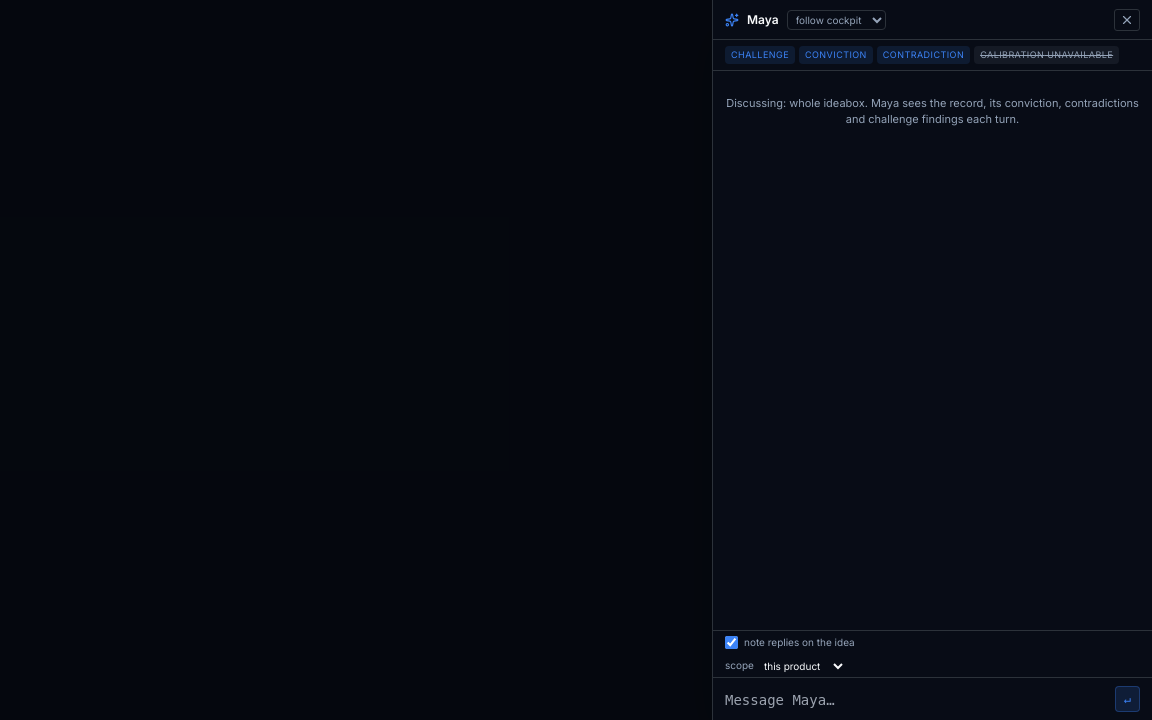
Test: conversation flow › findings accordion renders the latest turn's findings blocks (record/discussion excluded)
Type "hi" into the text box with placeholder "Message Maya…". click: (916, 701)
box: [725,689,1107,712]
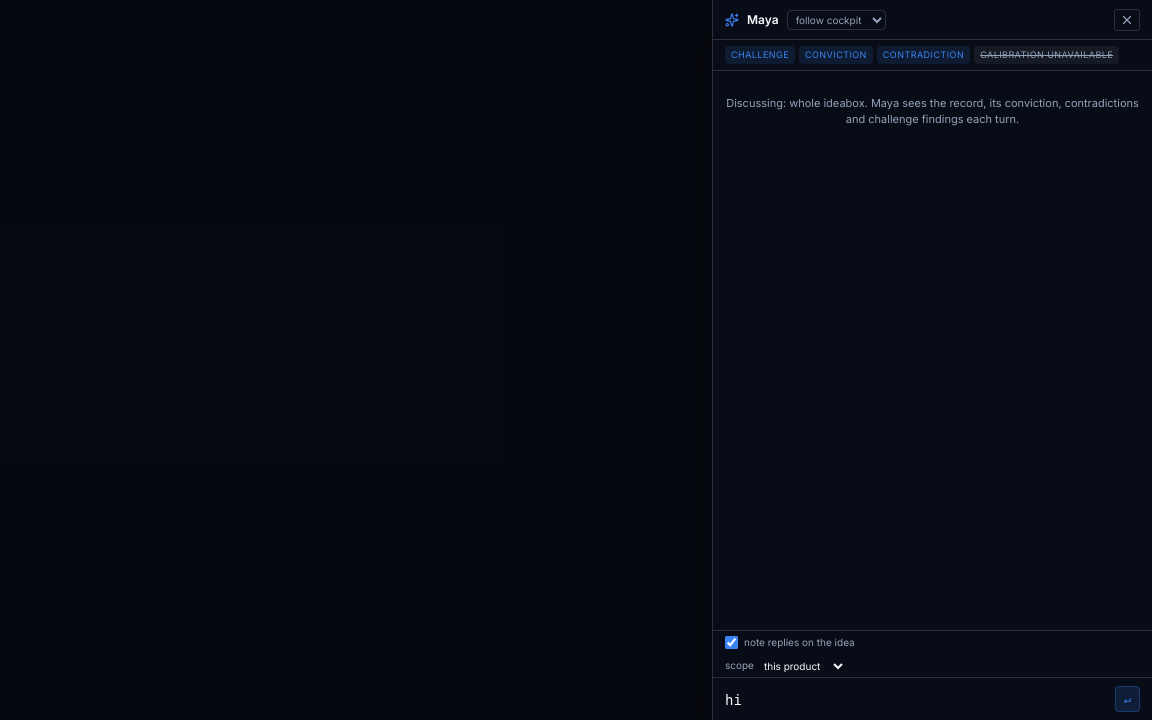
Press Enter in the text box, box [725,689,1107,712]
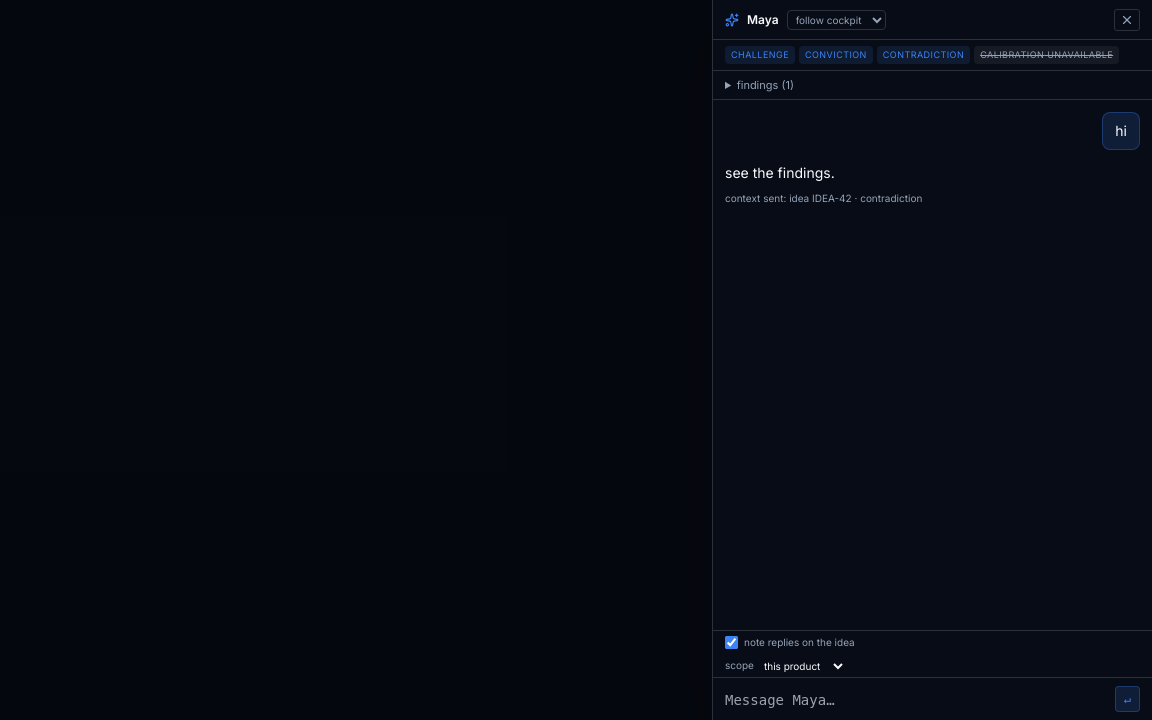
Check: the element with test id "findings-accordion" is shown, box [713,70,1151,100]
Check: the heading "findings (1)" is shown, box [737,78,794,92]
